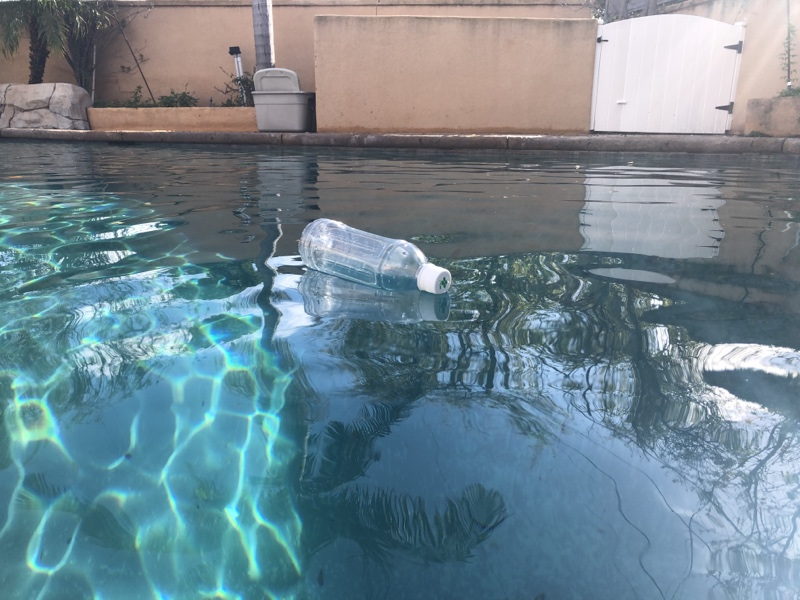Plastic Bottle: (299, 217, 454, 299)
